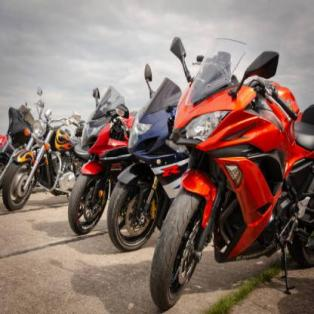Motocicleta: (161, 48, 313, 314), (109, 54, 183, 249)
